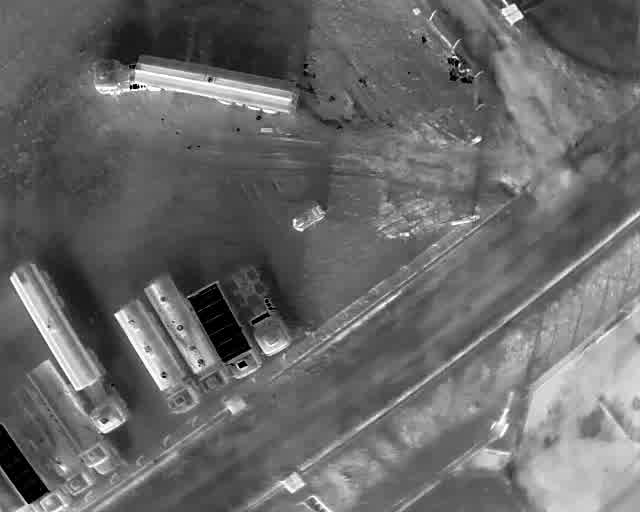truck: (9, 263, 130, 434), (91, 57, 300, 114), (28, 357, 125, 476), (113, 294, 200, 415), (144, 275, 230, 397), (9, 384, 95, 497), (185, 278, 263, 381), (227, 268, 293, 357), (0, 422, 53, 506)
